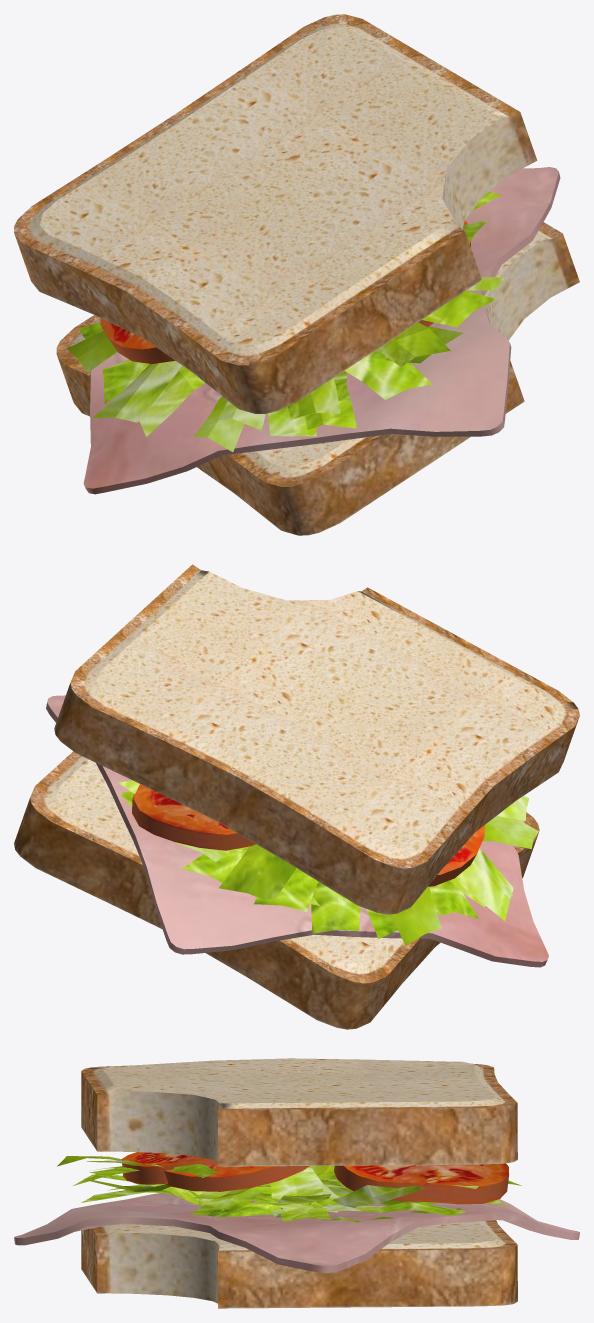
Rendered from Sammie.glb.
The picture shows the model from 3 angles, top to bottom: view 1: azimuth 30°, elevation 25°; view 2: azimuth 150°, elevation 25°; view 3: azimuth 270°, elevation 25°; orthographic projection. The views are drawn at different scales.
Visible parts, largest first — view 1: Sammie; view 2: Sammie; view 3: Sammie.
Part boxes in pixels (x1,y1,x2,y2): Sammie: (14,14,579,535); Sammie: (14,564,579,1029); Sammie: (14,1058,579,1308).
Size of the model in its own units: 0.5944 by 0.3593 by 0.6269.
1 material, 1 textured.
